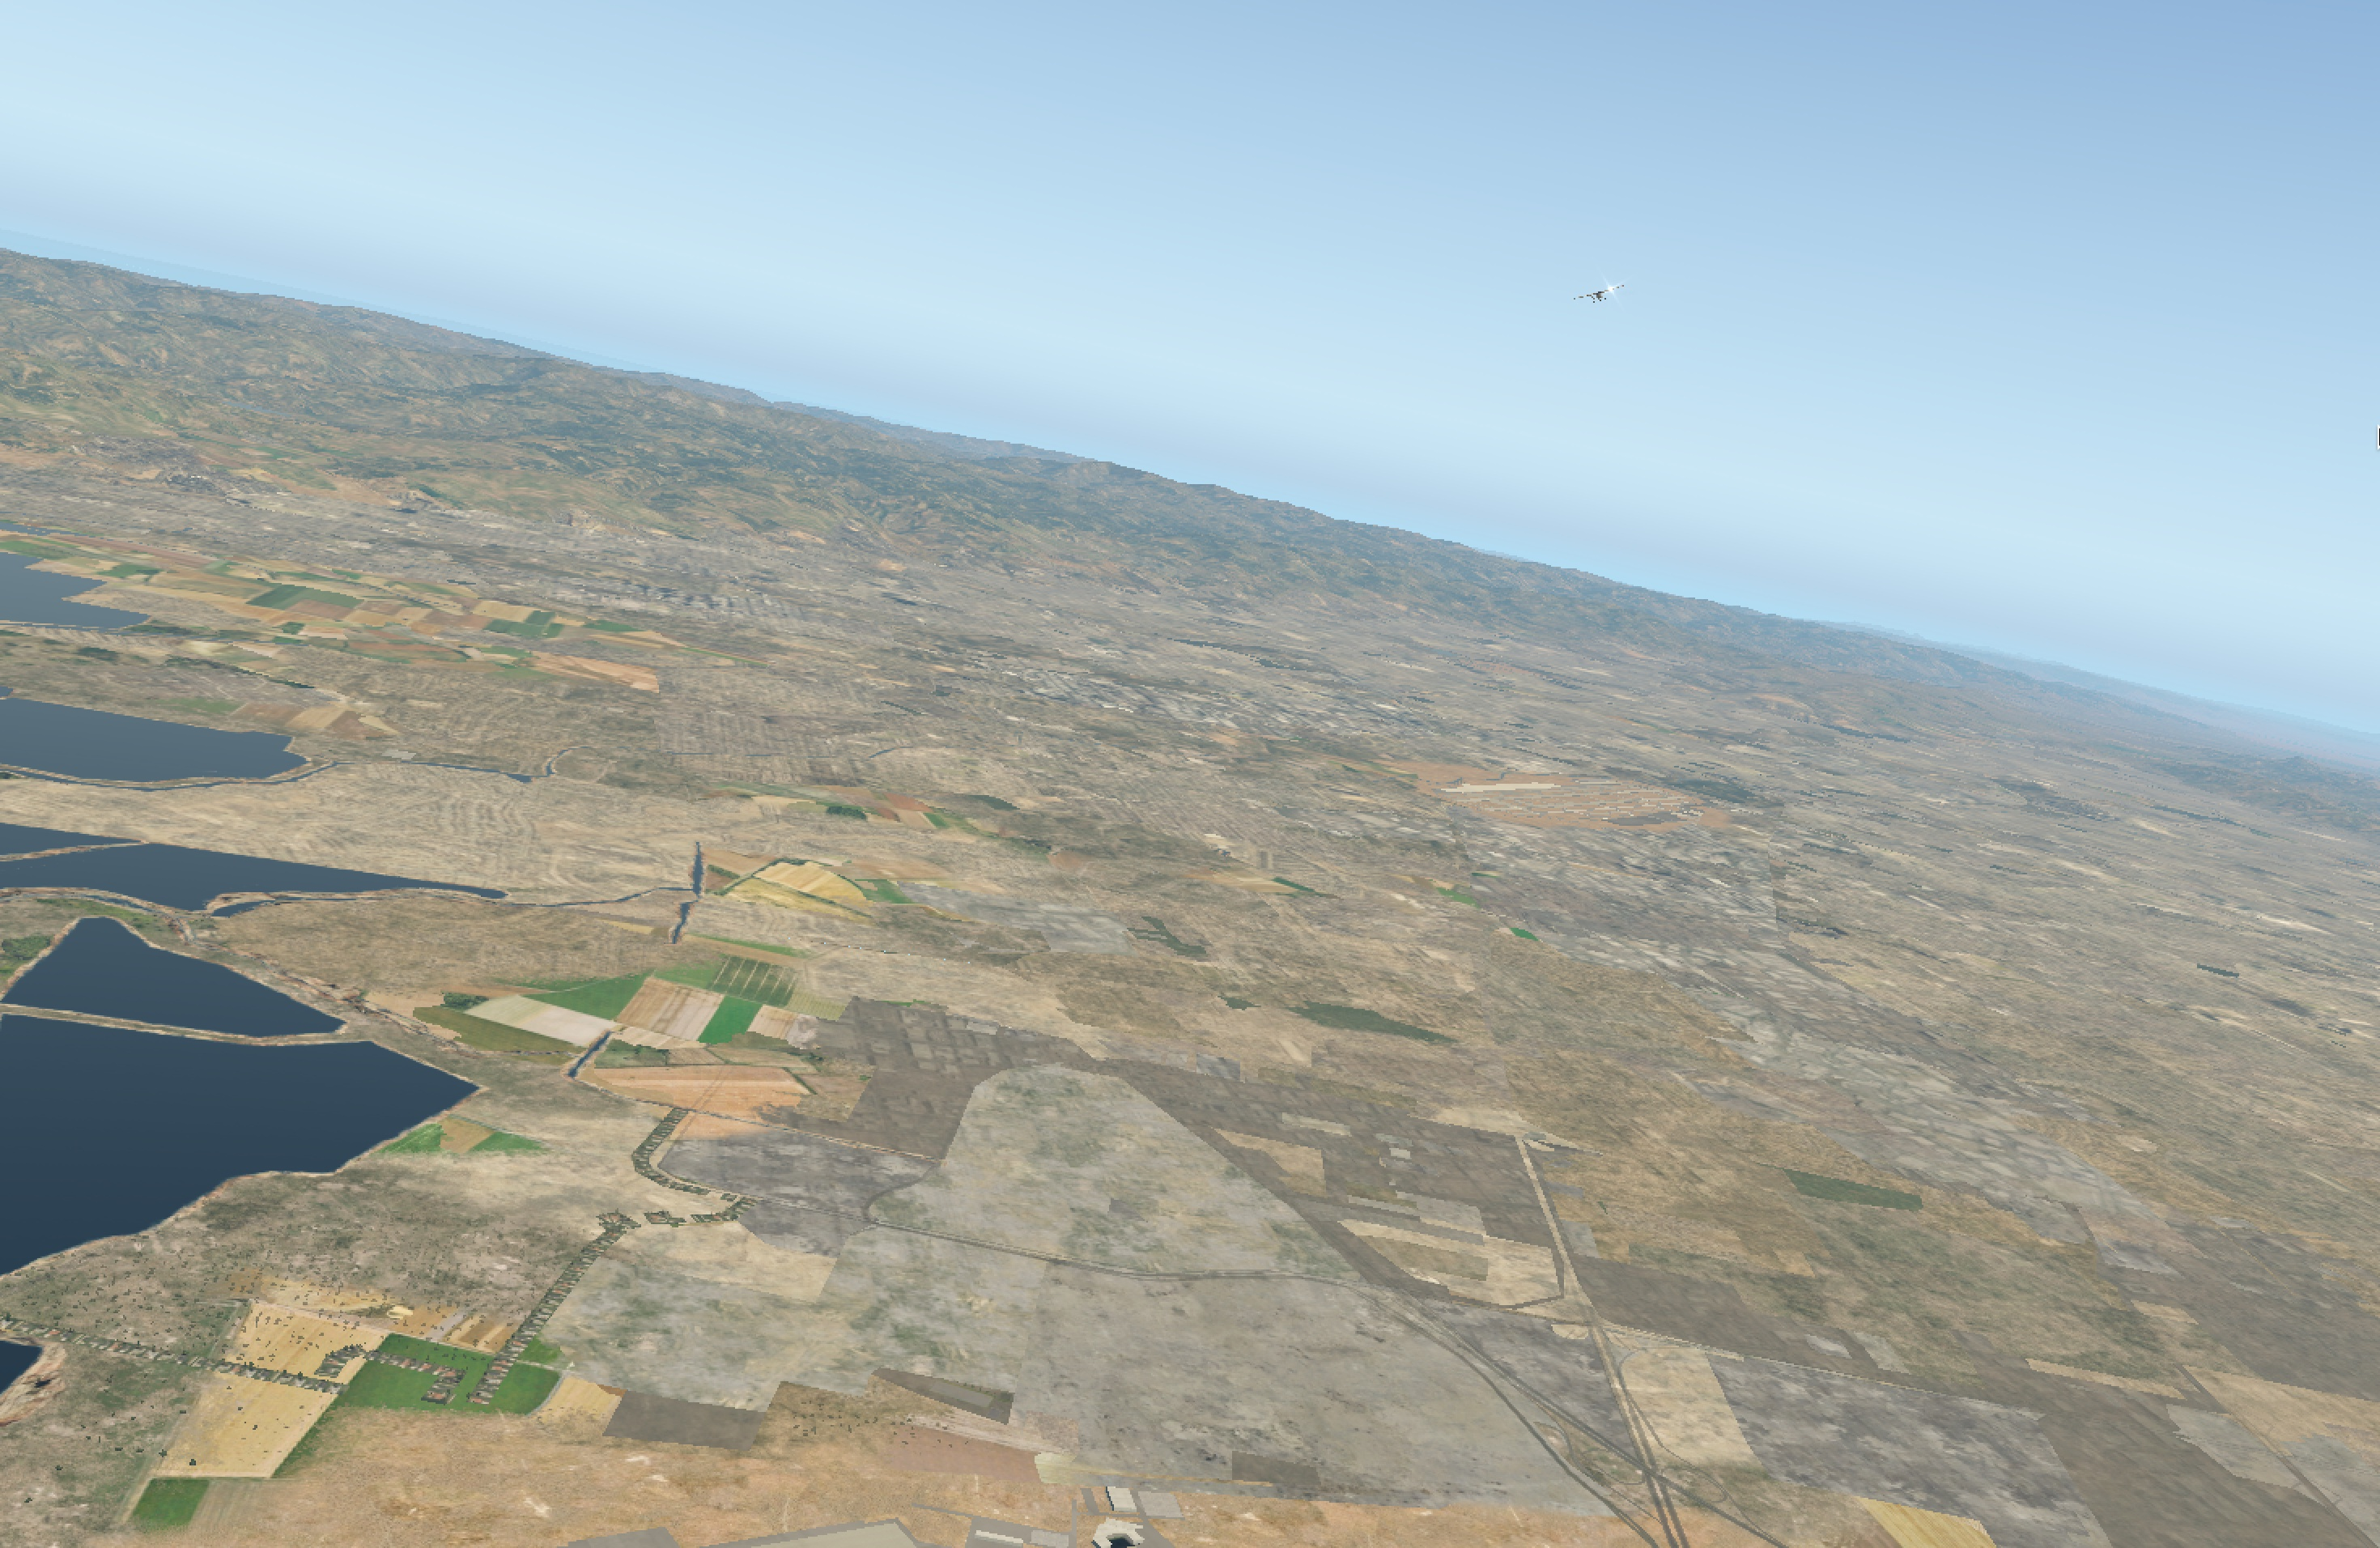aircraft: (1582, 288, 1617, 302)
